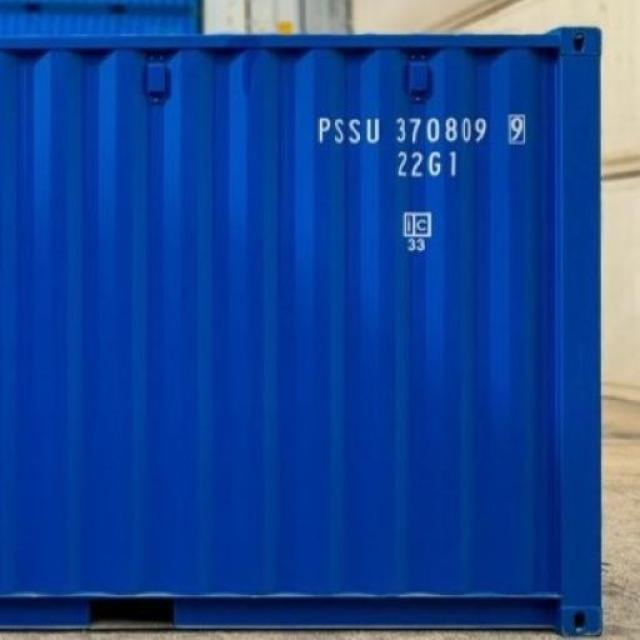ISO: (398, 149, 462, 179)
container_number: (326, 117, 524, 144)
